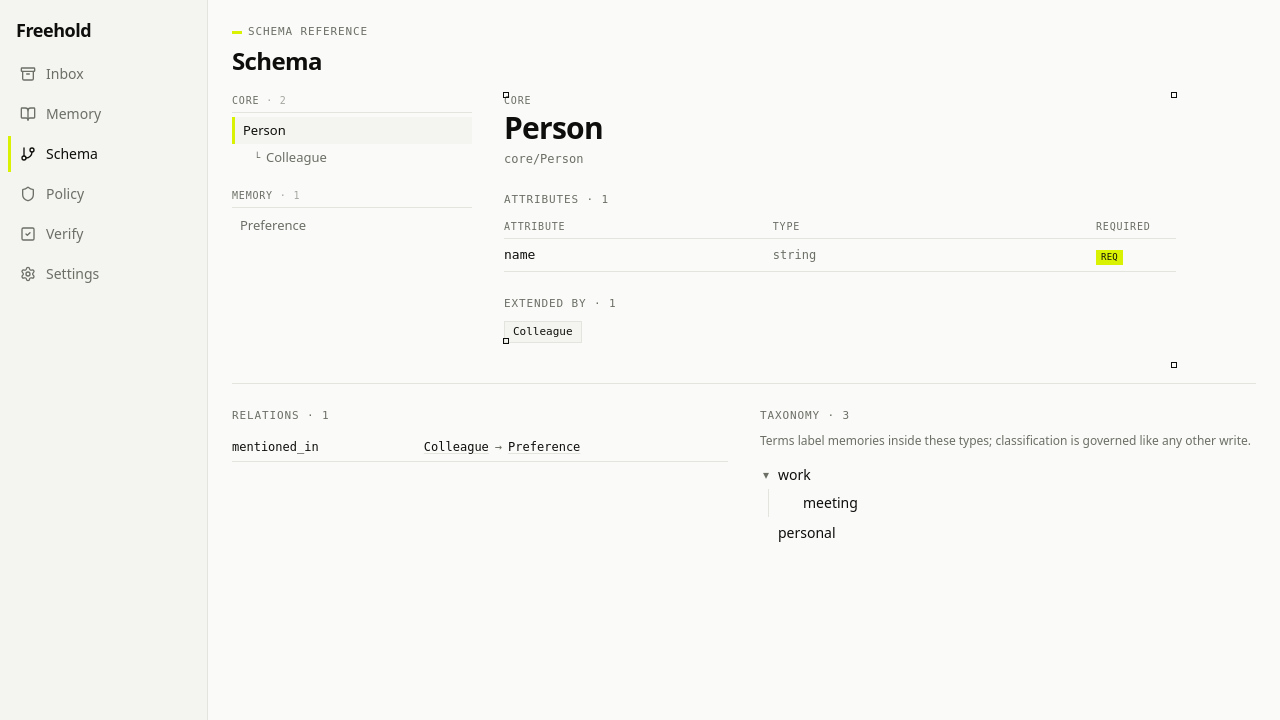
Test: Schema reference › shows the spec sheet with own and inherited attributes
Click the button with test id "index-claude-workspace/Colleague": click(352, 158) [232,144,472,172]
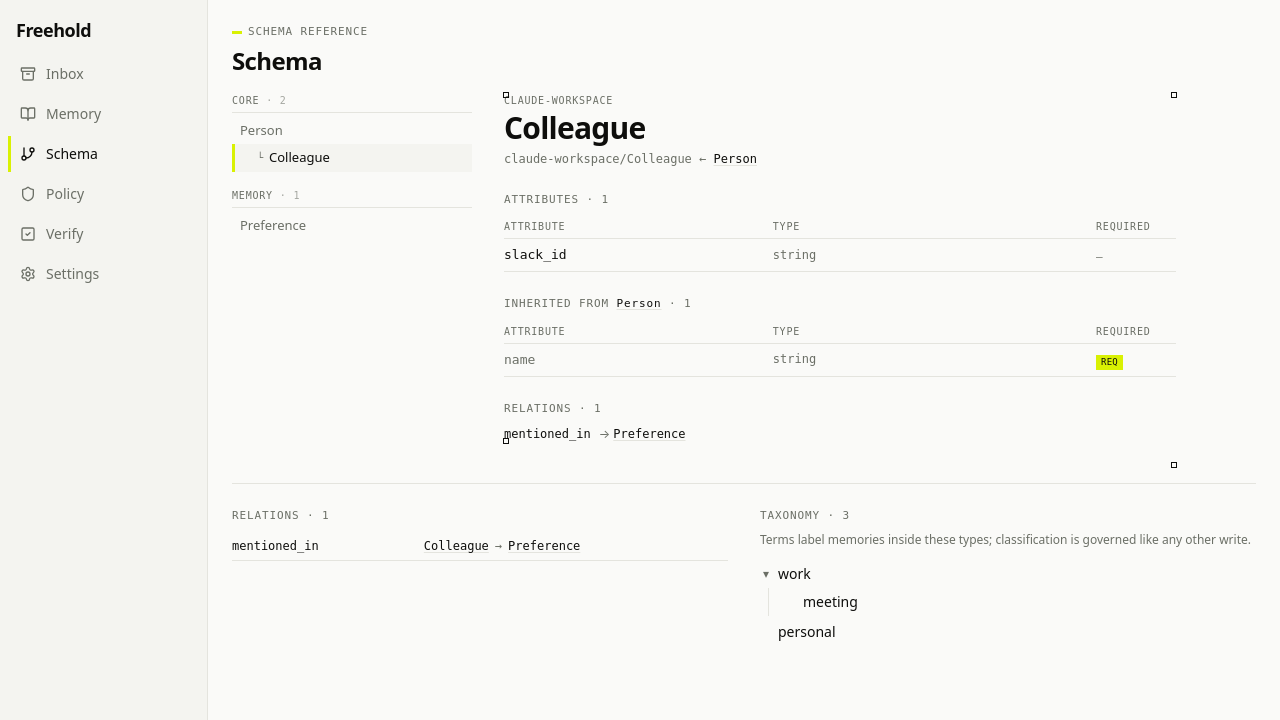
Expected: the element with test id "type-detail" shows "claude-workspace/Colleague", [504,152,692,166]
Expected: the element with test id "type-detail" shows "slack_id", [504,247,567,262]
Expected: the element with test id "inherited-core/Person" shows "name", [504,352,535,367]
